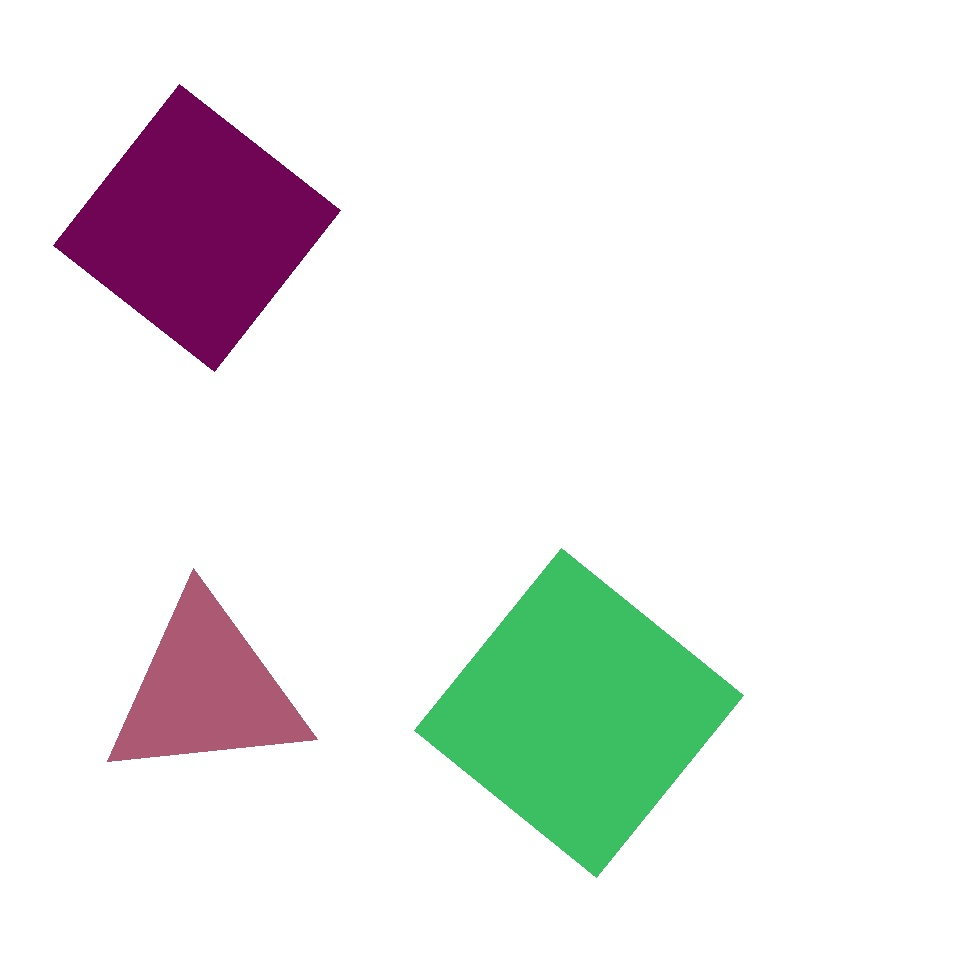circle: (464, 618, 770, 904), (101, 594, 311, 786)
square: (414, 548, 744, 878), (54, 84, 340, 372)
triangle: (43, 101, 388, 446)
